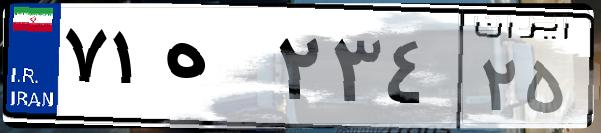1: (110, 28, 158, 98)
2: (270, 28, 330, 110), (475, 38, 525, 113)
3: (330, 28, 385, 110)
4: (385, 28, 445, 110)
5: (525, 38, 570, 115)
7: (57, 26, 110, 100)
ه: (158, 20, 270, 120)
